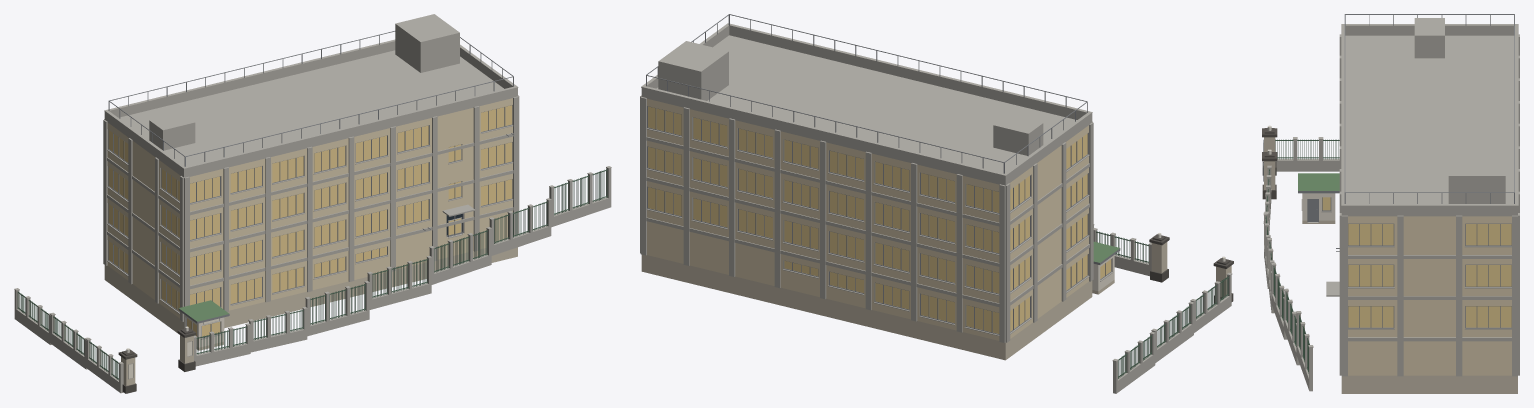
File: Z1_Campus.fbx
3 views of the same model, side by side, from view 1: azimuth 30°, elevation 25°; view 2: azimuth 150°, elevation 25°; view 3: azimuth 270°, elevation 25° (orthographic). The views are drawn at different scales.
Parts seen in each view (by area): view 1: school_019_LOD0, Fences_Campus_LOD0, WinLit_Campus_t04, WinLit_Campus_t03, WinLit_Campus_t09, WinLit_Campus_t07, WinLit_Campus_t06, WinLit_Campus_t05, WinLit_Campus_t08, booth_020_LOD0, gatepost_021_LOD0, WinLit_Campus_t02 (+1 smaller); view 2: school_019_LOD0, WinLit_Campus_t09, Fences_Campus_LOD0, WinLit_Campus_t07, WinLit_Campus_t03, WinLit_Campus_t08, WinLit_Campus_t05, WinLit_Campus_t02, WinLit_Campus_t04, booth_020_LOD0, gatepost_021_LOD0, WinLit_Campus_t06; view 3: school_019_LOD0, Fences_Campus_LOD0, WinLit_Campus_t09, booth_020_LOD0, WinLit_Campus_t02, WinLit_Campus_t03, WinLit_Campus_t06, WinLit_Campus_t07, gatepost_021_LOD0, gatepost_022_LOD0.
Boxes of the visible parts, x1,y1,x2,y2 form: school_019_LOD0: [103, 14, 519, 334]; Fences_Campus_LOD0: [14, 166, 611, 393]; WinLit_Campus_t04: [230, 125, 512, 262]; WinLit_Campus_t03: [108, 105, 512, 311]; WinLit_Campus_t09: [108, 130, 428, 236]; WinLit_Campus_t07: [108, 144, 461, 277]; WinLit_Campus_t06: [230, 240, 303, 303]; WinLit_Campus_t05: [190, 142, 512, 276]; WinLit_Campus_t08: [108, 146, 345, 274]; booth_020_LOD0: [178, 300, 229, 350]; gatepost_021_LOD0: [177, 326, 196, 371]; WinLit_Campus_t02: [356, 136, 386, 162]; school_019_LOD0: [640, 14, 1093, 360]; WinLit_Campus_t09: [648, 128, 1029, 293]; Fences_Campus_LOD0: [1093, 224, 1232, 393]; WinLit_Campus_t07: [693, 117, 1087, 290]; WinLit_Campus_t03: [648, 106, 1087, 290]; WinLit_Campus_t08: [875, 162, 1087, 331]; WinLit_Campus_t05: [784, 173, 999, 282]; WinLit_Campus_t02: [875, 202, 999, 333]; WinLit_Campus_t04: [648, 187, 863, 292]; booth_020_LOD0: [1092, 241, 1120, 294]; gatepost_021_LOD0: [1149, 233, 1169, 282]; WinLit_Campus_t06: [875, 283, 909, 309]; school_019_LOD0: [1326, 14, 1519, 393]; Fences_Campus_LOD0: [1263, 137, 1339, 391]; WinLit_Campus_t09: [1466, 224, 1511, 286]; booth_020_LOD0: [1298, 173, 1339, 223]; WinLit_Campus_t02: [1348, 265, 1393, 286]; WinLit_Campus_t03: [1466, 306, 1511, 327]; WinLit_Campus_t06: [1348, 306, 1393, 327]; WinLit_Campus_t07: [1348, 224, 1393, 245]; gatepost_021_LOD0: [1262, 149, 1277, 199]; gatepost_022_LOD0: [1262, 125, 1277, 175].
Size of what is drawn, in the model's own units: 51.84 by 19.73 by 20.44.
